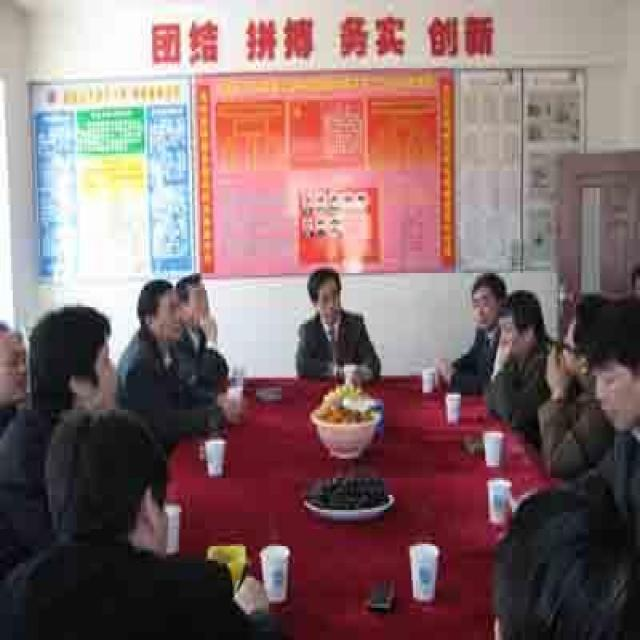nothing: (19, 294, 116, 404), (587, 290, 640, 405), (493, 289, 554, 338), (122, 271, 178, 320), (300, 260, 342, 300), (469, 271, 509, 308), (171, 269, 211, 302)
